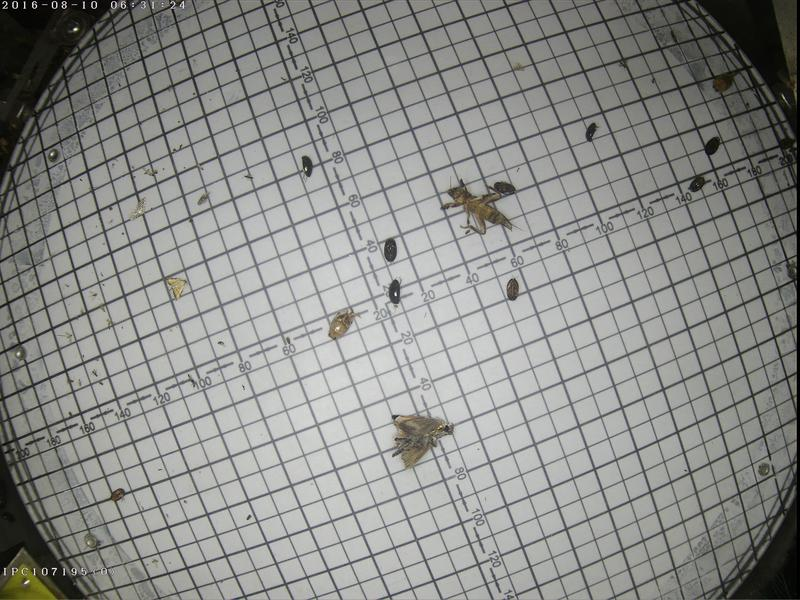Gryllotalpa orientalis: (433, 175, 523, 235)
Rice Leaf Roller: (159, 271, 189, 300)
